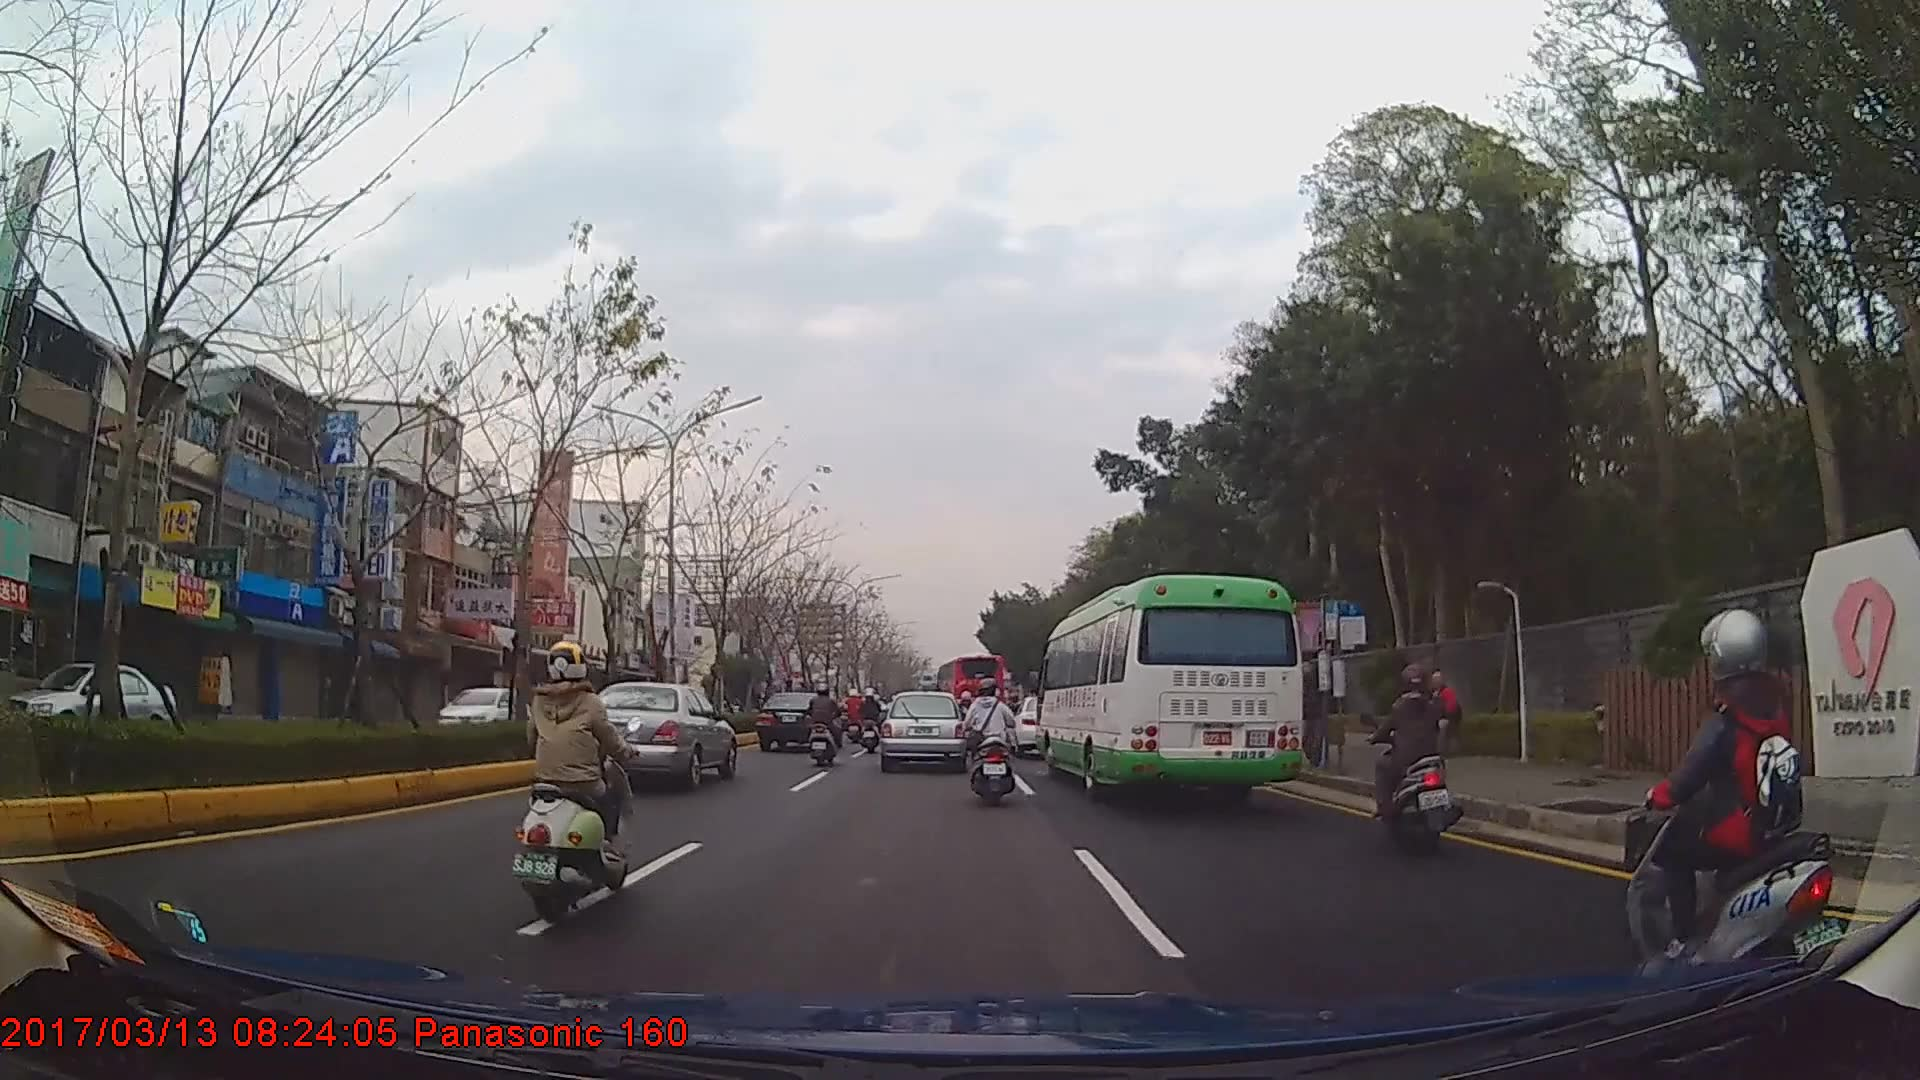pedestrian: (1409, 669, 1463, 759)
rider: (1633, 609, 1843, 1042), (507, 634, 626, 929), (1367, 652, 1462, 856), (958, 676, 1015, 803), (807, 682, 843, 767), (859, 686, 883, 753), (844, 687, 866, 743)
vehicle: (1033, 572, 1302, 801), (571, 679, 734, 789), (16, 656, 179, 745), (877, 687, 966, 767), (430, 682, 535, 739), (755, 689, 843, 754), (934, 649, 1003, 719)
